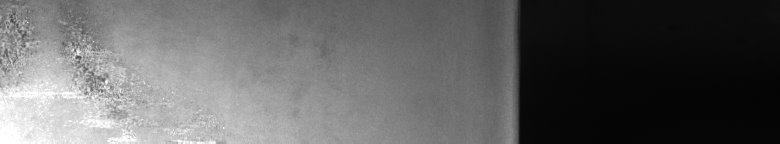hc: (4, 4, 187, 134)
